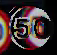Speed limit: (5, 1, 52, 51)
